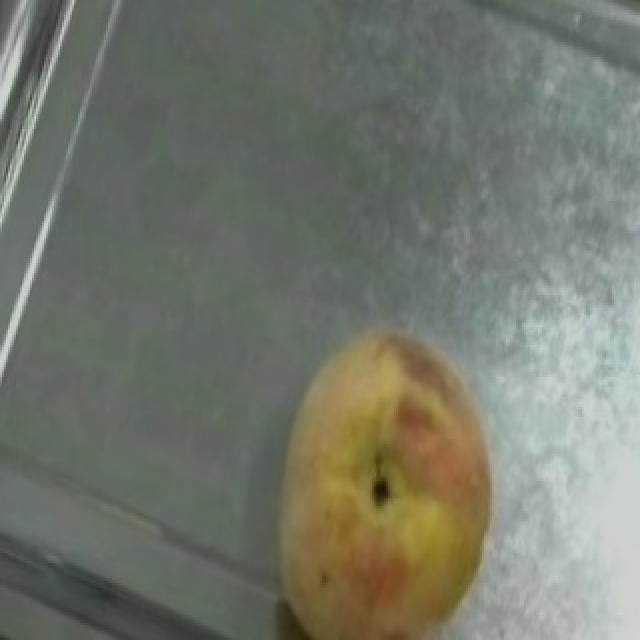Fruit: (222, 292, 530, 640)
